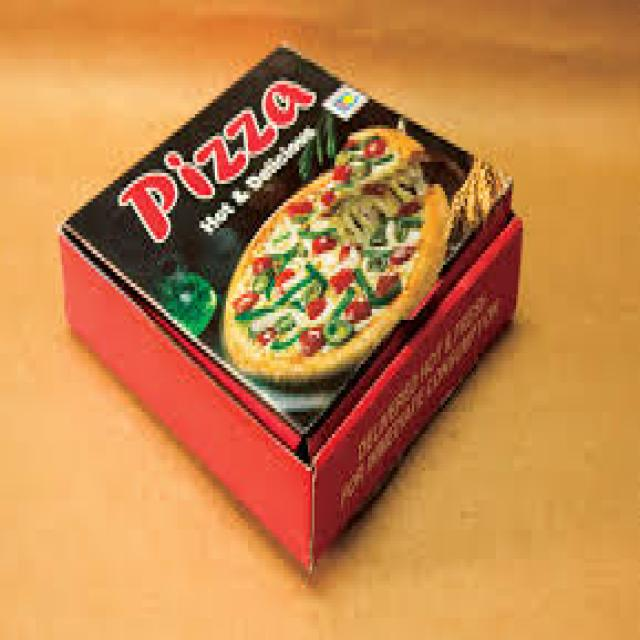cardboard: (55, 41, 523, 570)
